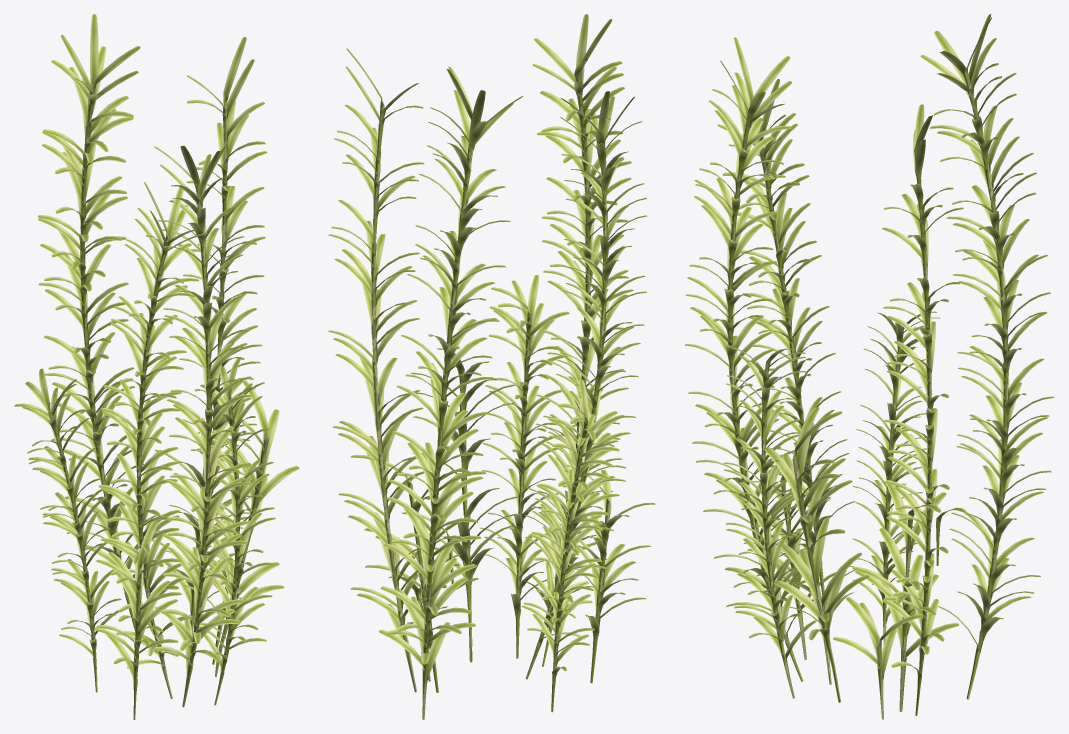
The model's file is reeds.glb.
The picture shows the model from 3 angles, left to right: view 1: azimuth 30°, elevation 25°; view 2: azimuth 150°, elevation 25°; view 3: azimuth 270°, elevation 25°; orthographic projection. The views are drawn at different scales.
Visible parts, largest first — view 1: objArch31_057_obj_01; view 2: objArch31_057_obj_01; view 3: objArch31_057_obj_01.
Part boxes in pixels (<box>): objArch31_057_obj_01: <box>14,14,299,719</box>; objArch31_057_obj_01: <box>328,14,655,719</box>; objArch31_057_obj_01: <box>684,14,1053,719</box>.
Bounding box in the file's own units: 14.87 × 36 × 18.11.
1 material, 1 textured.
